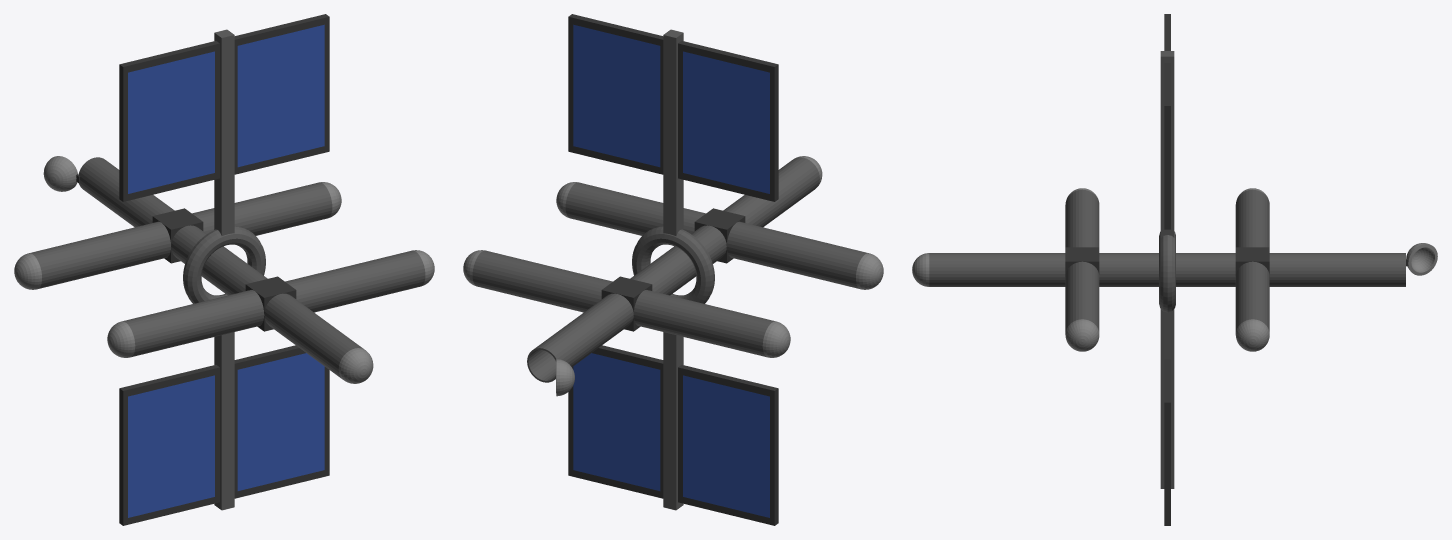
Rendered from SpaceStation2.fbx.
3 renders of one model, left to right at view 1: azimuth 30°, elevation 25°; view 2: azimuth 150°, elevation 25°; view 3: azimuth 270°, elevation 25°, orthographic. The views are drawn at different scales.
Visible parts, largest first — view 1: SolarPanel, Tube, Beam, Door, Mid Piece; view 2: SolarPanel, Tube, Beam, Door, Mid Piece; view 3: Tube, Beam, Door, SolarPanel, Mid Piece.
Part boxes in pixels (x1=…): SolarPanel: x1=119, y1=14, x2=329, y2=525; Tube: x1=29, y1=157, x2=425, y2=379; Beam: x1=183, y1=29, x2=265, y2=510; Door: x1=14, y1=156, x2=434, y2=383; Mid Piece: x1=152, y1=208, x2=296, y2=331; SolarPanel: x1=568, y1=14, x2=778, y2=525; Tube: x1=472, y1=157, x2=868, y2=382; Beam: x1=632, y1=29, x2=714, y2=510; Door: x1=463, y1=156, x2=883, y2=396; Mid Piece: x1=601, y1=208, x2=745, y2=331; Tube: x1=929, y1=189, x2=1405, y2=333; Beam: x1=1159, y1=51, x2=1175, y2=488; Door: x1=912, y1=188, x2=1437, y2=351; SolarPanel: x1=1164, y1=14, x2=1170, y2=525; Mid Piece: x1=1065, y1=247, x2=1269, y2=276.
Bounding box in the file's own units: 10000 × 14000 × 15433.
Materials: 6 (6 with a texture image).
